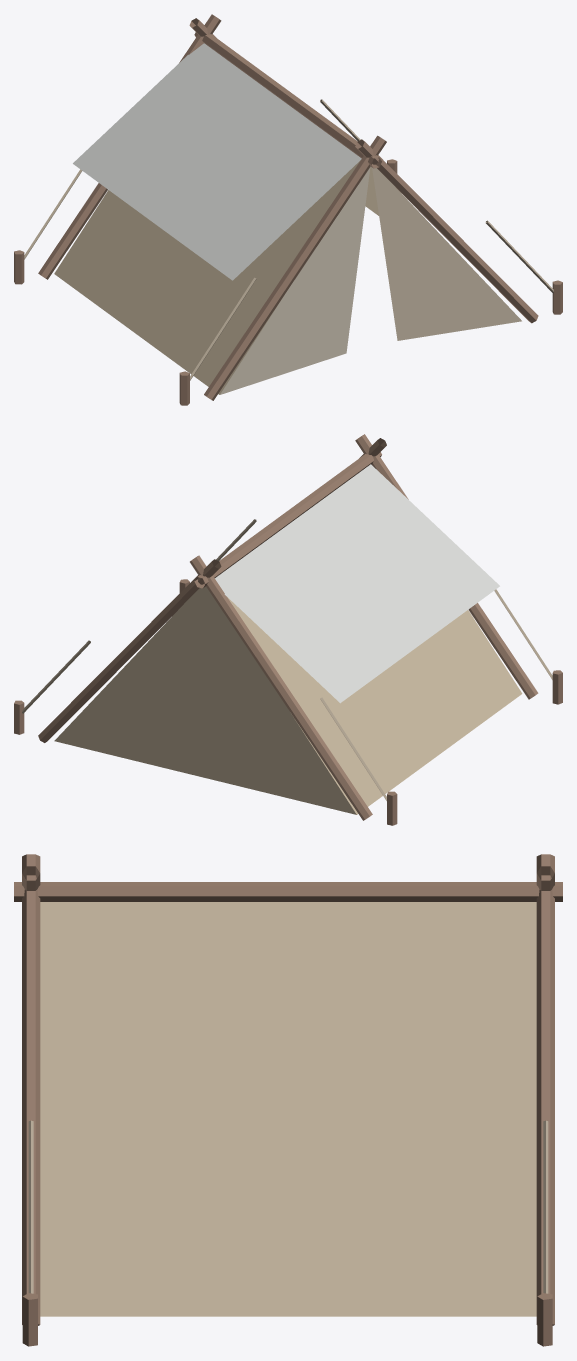
The picture shows the model from 3 angles, top to bottom: view 1: azimuth 30°, elevation 25°; view 2: azimuth 150°, elevation 25°; view 3: azimuth 270°, elevation 25°; orthographic projection. The views are drawn at different scales.
Visible parts, largest first — view 1: C02; view 2: C02; view 3: C02.
Part boxes in pixels (bbox=[...]): C02: bbox=[14, 14, 562, 405]; C02: bbox=[14, 434, 562, 825]; C02: bbox=[14, 854, 562, 1346].
Size of the model in its own units: 2.4 by 1.34 by 1.92.
